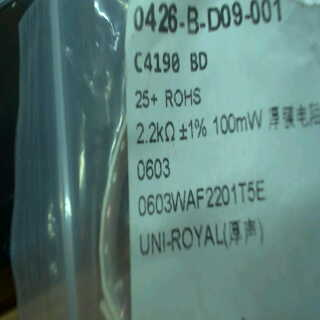2.2kR: (132, 115, 179, 145)
